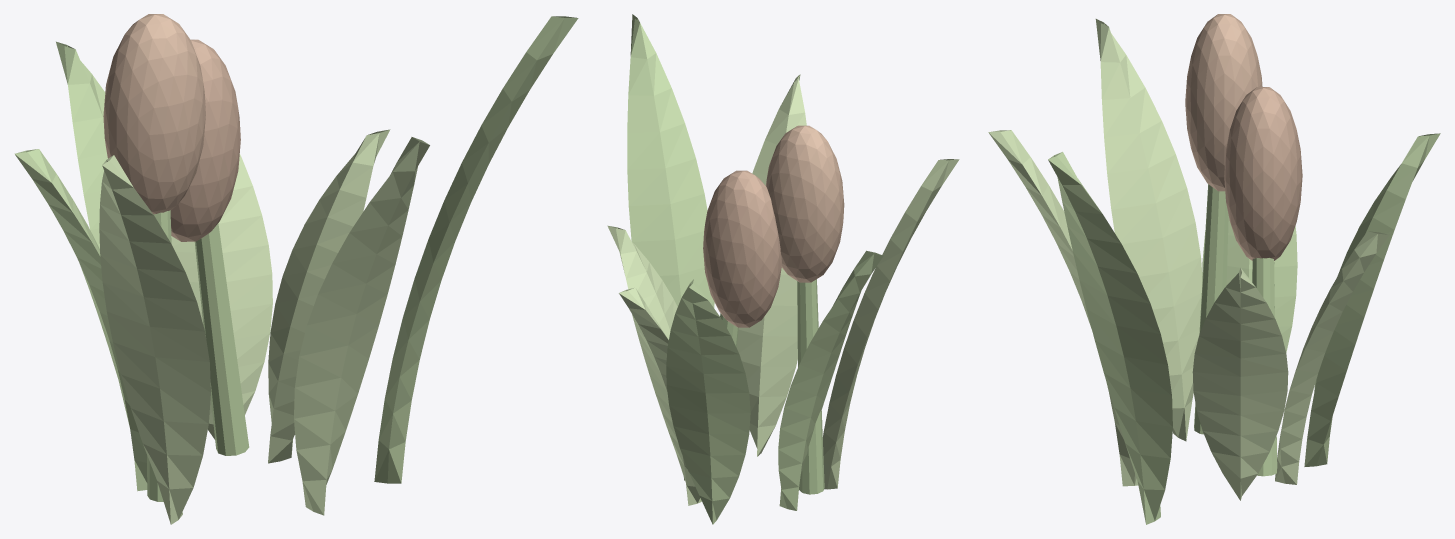
The model's file is cattails_two.glb.
The picture shows the model from 3 angles, left to right: view 1: azimuth 30°, elevation 25°; view 2: azimuth 150°, elevation 25°; view 3: azimuth 270°, elevation 25°; orthographic projection. The views are drawn at different scales.
Parts seen in each view (by area): view 1: cattails_two_02, cattails_two_06, cattails_two_10, cattails_two_03, cattails_two_00, cattails_two_04, cattails_two_08, cattails_two_07, cattails_two_05, cattails_two_01, cattails_two_09; view 2: cattails_two_03, cattails_two_01, cattails_two_08, cattails_two_10, cattails_two_06, cattails_two_05, cattails_two_02, cattails_two_04, cattails_two_09, cattails_two_00; view 3: cattails_two_02, cattails_two_03, cattails_two_00, cattails_two_08, cattails_two_10, cattails_two_01, cattails_two_04, cattails_two_06, cattails_two_09, cattails_two_05, cattails_two_07.
Part boxes in pixels (x1,y1,x2,y2): cattails_two_02: (99,155,210,524); cattails_two_06: (294,137,429,515); cattails_two_10: (103,14,205,214); cattails_two_03: (374,16,578,483); cattails_two_00: (268,129,390,463); cattails_two_04: (171,154,272,439); cattails_two_08: (170,39,240,241); cattails_two_07: (194,223,249,455); cattails_two_05: (14,149,147,491); cattails_two_01: (56,41,107,248); cattails_two_09: (147,210,171,501); cattails_two_03: (627,14,714,307); cattails_two_01: (666,279,750,524); cattails_two_08: (703,170,781,327); cattails_two_10: (766,125,844,282); cattails_two_06: (737,74,806,456); cattails_two_05: (778,250,883,510); cattails_two_02: (822,159,959,489); cattails_two_04: (619,287,701,505); cattails_two_09: (797,279,824,494); cattails_two_00: (607,225,684,480); cattails_two_02: (1095,19,1202,441); cattails_two_03: (1048,152,1172,524); cattails_two_00: (1192,268,1288,500); cattails_two_08: (1224,87,1302,260); cattails_two_10: (1185,14,1262,191); cattails_two_01: (1304,133,1440,466); cattails_two_04: (1275,231,1389,484); cattails_two_06: (988,130,1138,486); cattails_two_09: (1194,184,1228,434); cattails_two_05: (1202,216,1297,352); cattails_two_07: (1252,258,1277,476).
Bounding box in the file's own units: 0.834 × 0.8613 × 0.8331.
